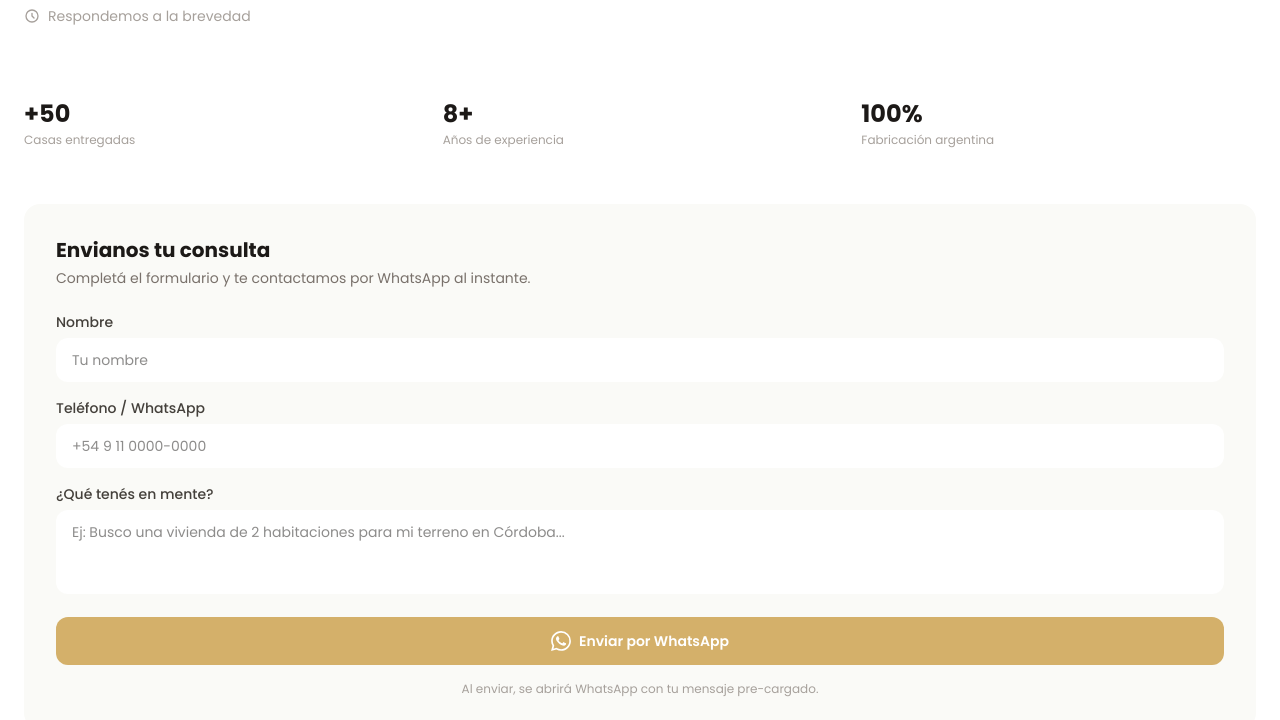
Scenario: CTAFinal › muestra el estado de éxito tras enviar
(page scrolled)
Type "Ana García" into the field labelled "Nombre" at x=640, y=360, box top-left (56, 338), bottom-right (1224, 382)
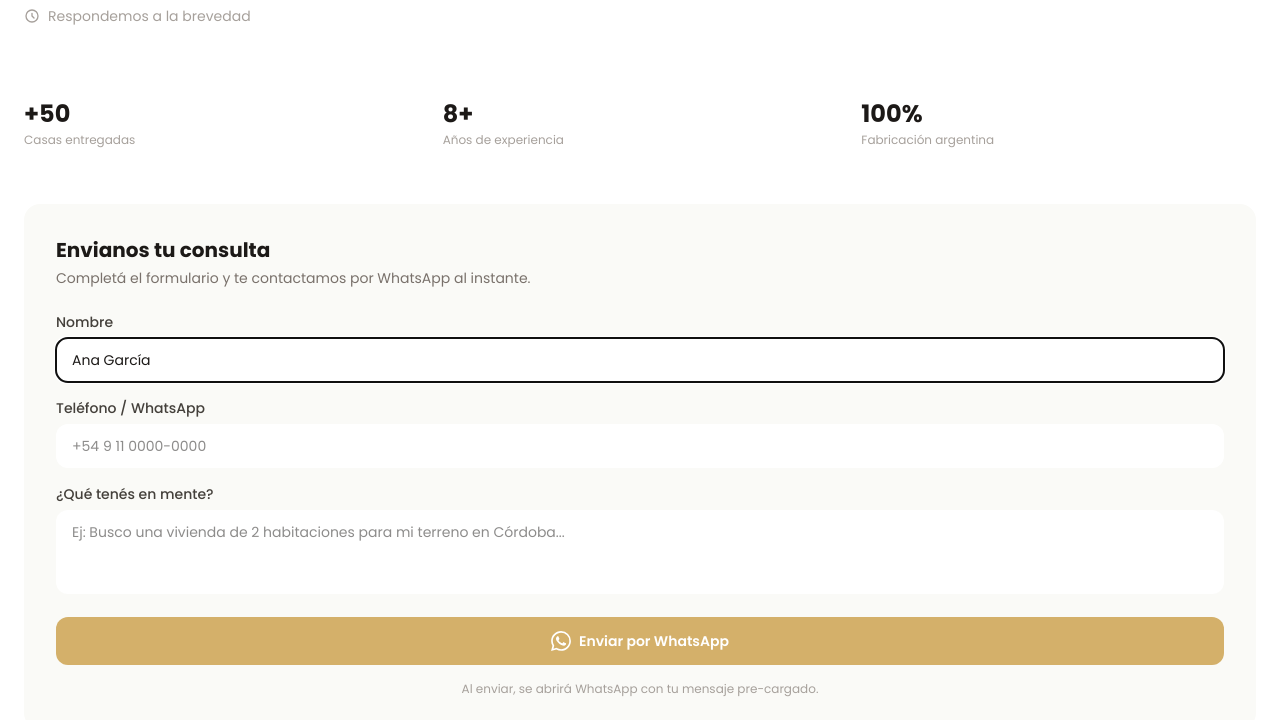
Type "+5491155554444" into the field labelled "Teléfono / WhatsApp" at x=640, y=446, box top-left (56, 424), bottom-right (1224, 468)
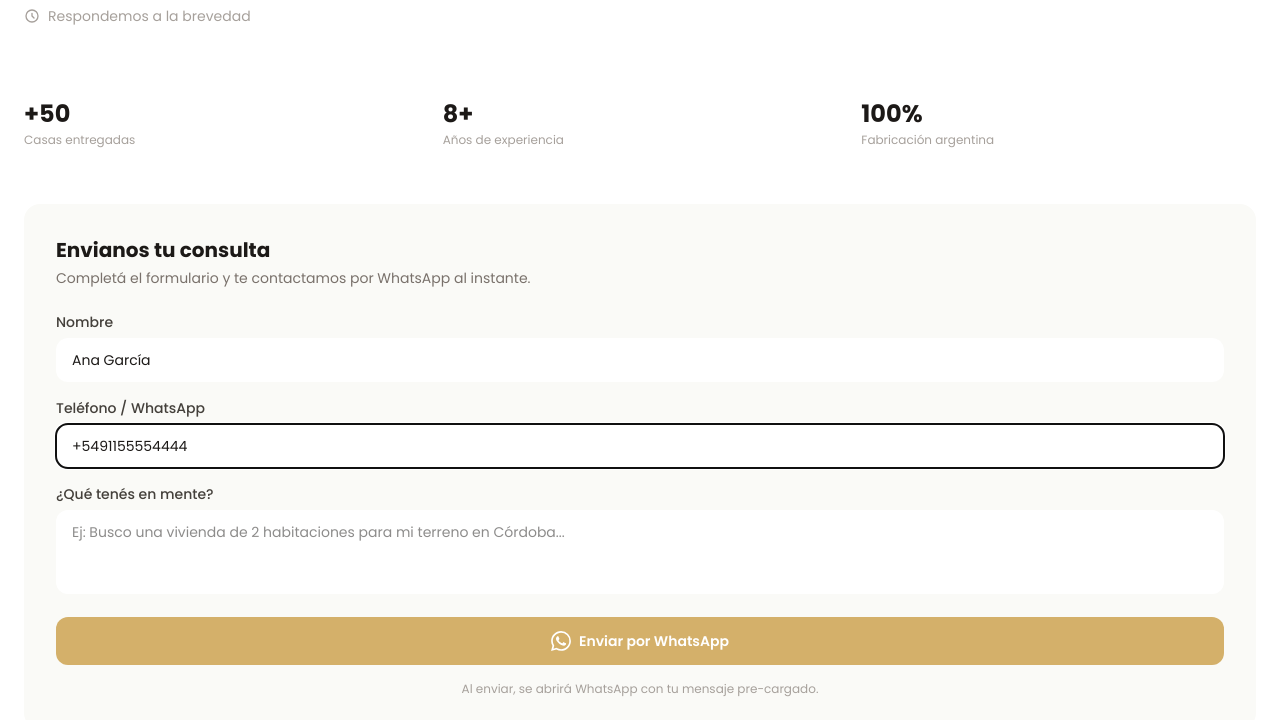
Type "Quiero info" into the text box labelled "¿Qué tenés en mente?" at x=640, y=552, box top-left (56, 510), bottom-right (1224, 594)
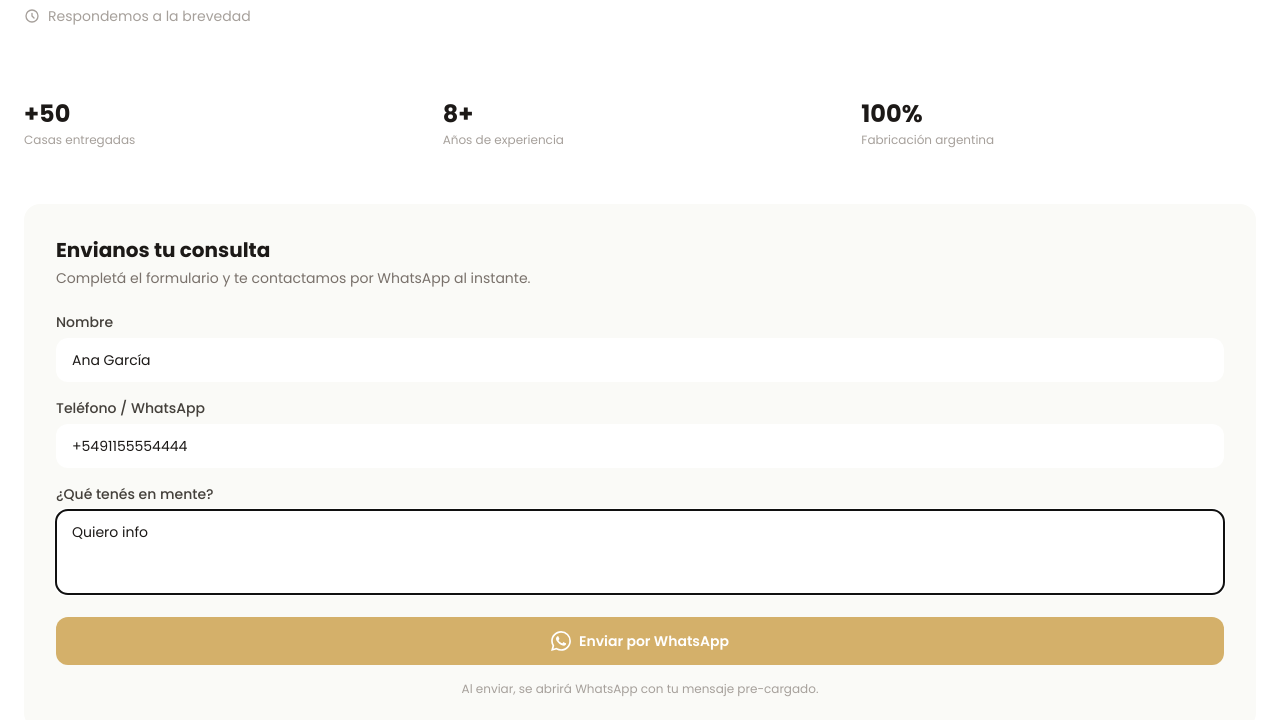
Click the button "Enviar por WhatsApp" at x=640, y=641, box top-left (56, 617), bottom-right (1224, 665)
(page scrolled)
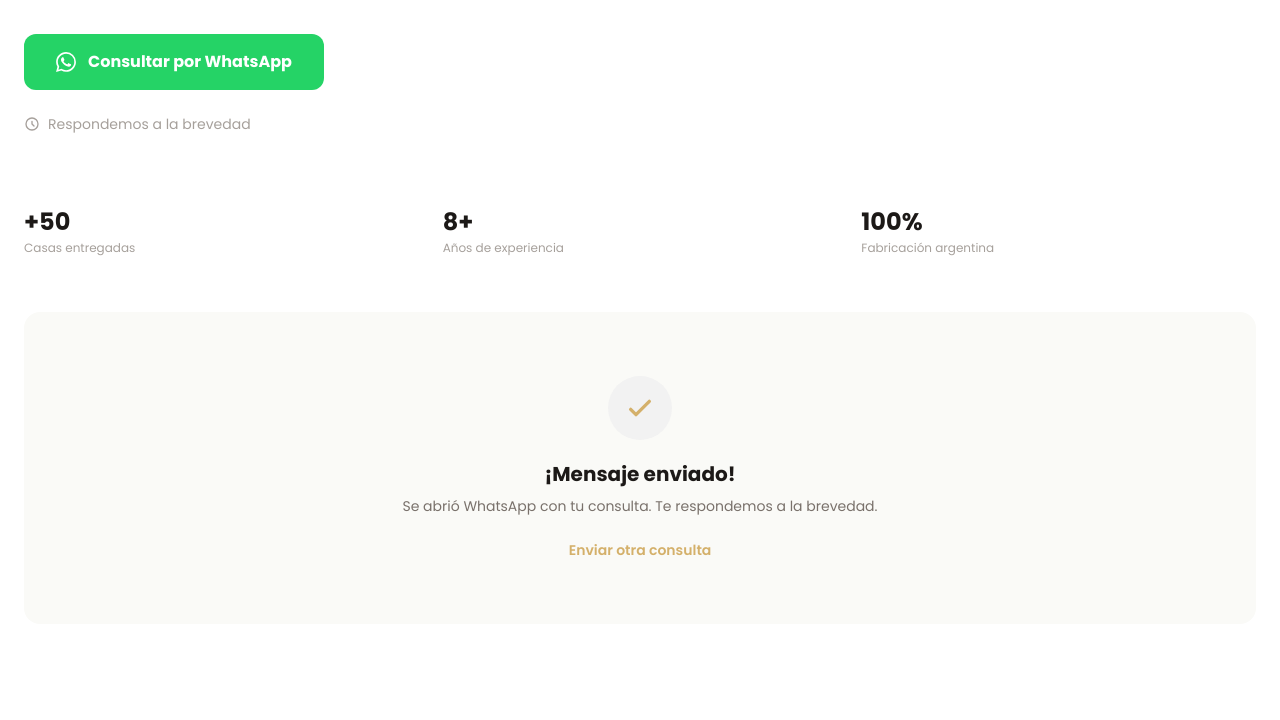
Expected: the heading "¡Mensaje enviado!" is shown, top-left (544, 460), bottom-right (736, 488)
Expected: the button "Enviar por WhatsApp" is gone
